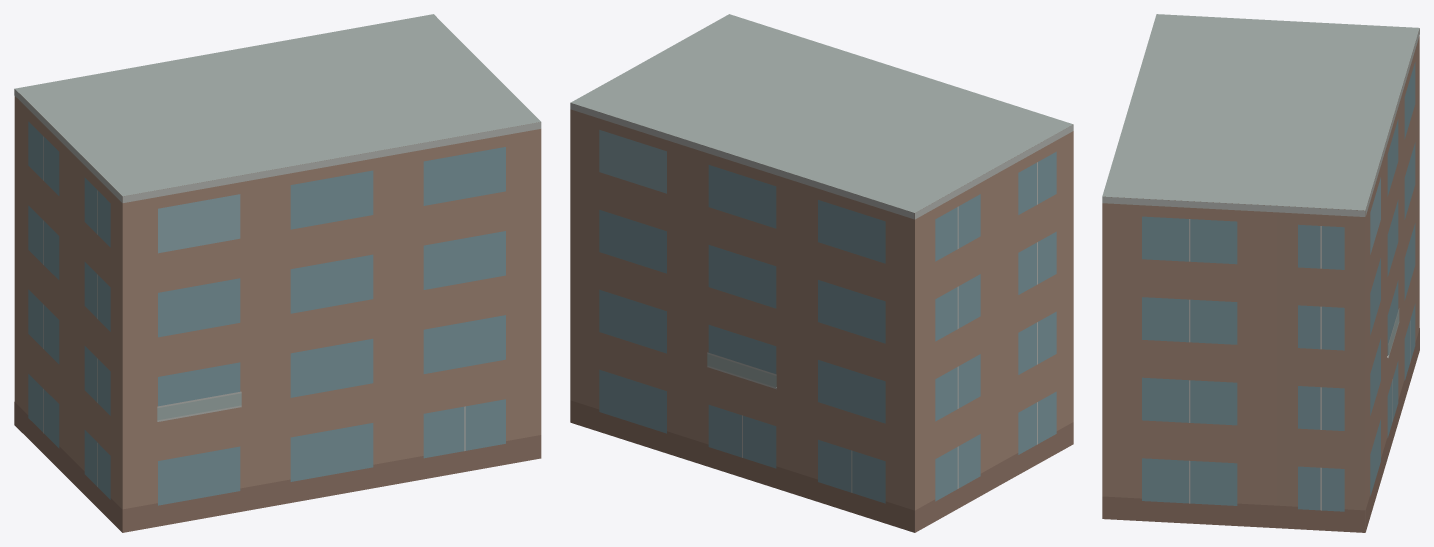
File: survey-upis-32940237.glb
The picture shows the model from 3 angles, left to right: view 1: azimuth 30°, elevation 25°; view 2: azimuth 150°, elevation 25°; view 3: azimuth 270°, elevation 25°; orthographic projection. The views are drawn at different scales.
Visible parts, largest first — view 1: survey-upis-32940237.tmp; view 2: survey-upis-32940237.tmp; view 3: survey-upis-32940237.tmp.
Part boxes in pixels (box(x1,y1,x2,y2)): survey-upis-32940237.tmp: box(14, 14, 541, 532); survey-upis-32940237.tmp: box(570, 14, 1073, 532); survey-upis-32940237.tmp: box(1102, 14, 1419, 532).
Bounding box in the file's own units: 15.57 × 11.9 × 10.64.
